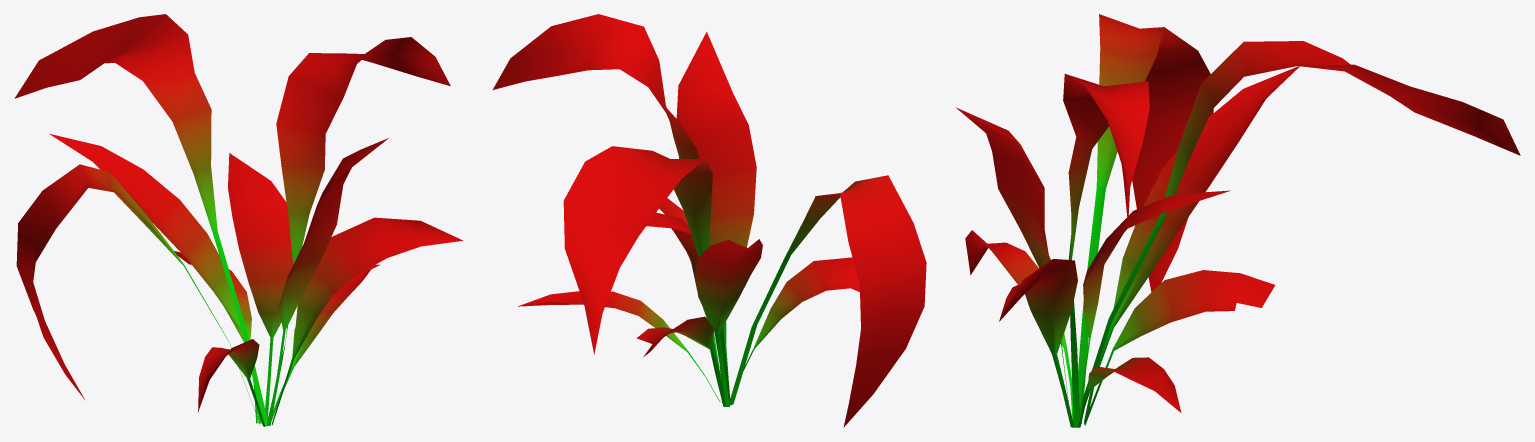
Rendered from Cast - Iron Plant_LOD1_Var6_shdmr.fbx.
3 views of the same model, side by side, from view 1: azimuth 30°, elevation 25°; view 2: azimuth 150°, elevation 25°; view 3: azimuth 270°, elevation 25° (orthographic). The views are drawn at different scales.
Visible parts, largest first — view 1: _d2c9_Var6_LOD1; view 2: _d2c9_Var6_LOD1; view 3: _d2c9_Var6_LOD1.
Part boxes in pixels (bbox=[...]): _d2c9_Var6_LOD1: bbox=[14, 14, 462, 426]; _d2c9_Var6_LOD1: bbox=[492, 14, 926, 427]; _d2c9_Var6_LOD1: bbox=[956, 14, 1520, 427].
Size of the model in its own units: 58.33 by 46.8 by 58.18.
